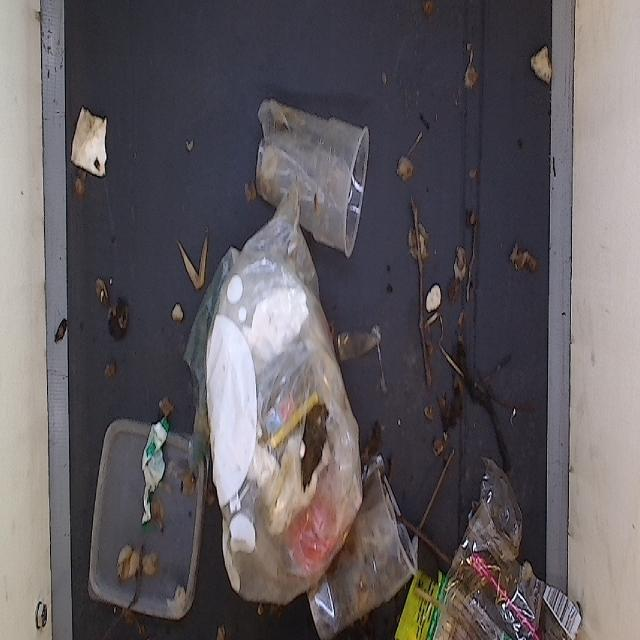food_wrapping: (404, 527, 456, 640)
plastic_cups: (252, 66, 376, 272), (304, 435, 415, 640)
plastic_films: (194, 216, 363, 630), (449, 456, 583, 640)
undef_hard_plastic: (80, 402, 219, 640), (73, 90, 112, 186)
